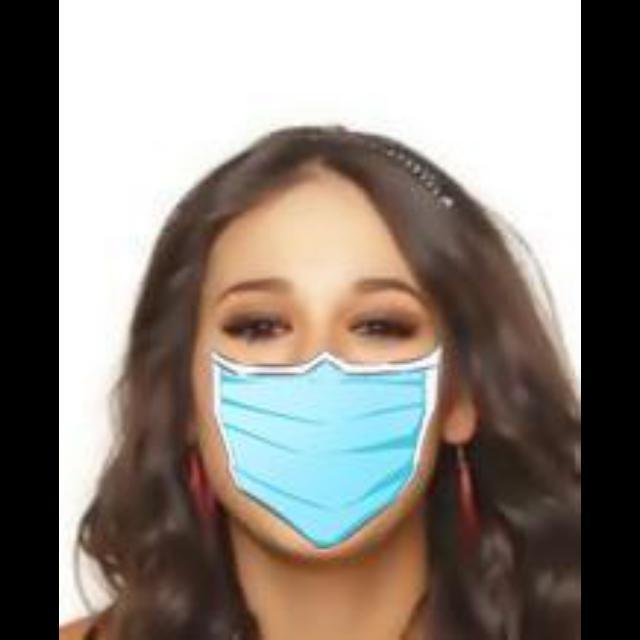suspicion: (186, 138, 459, 590)
